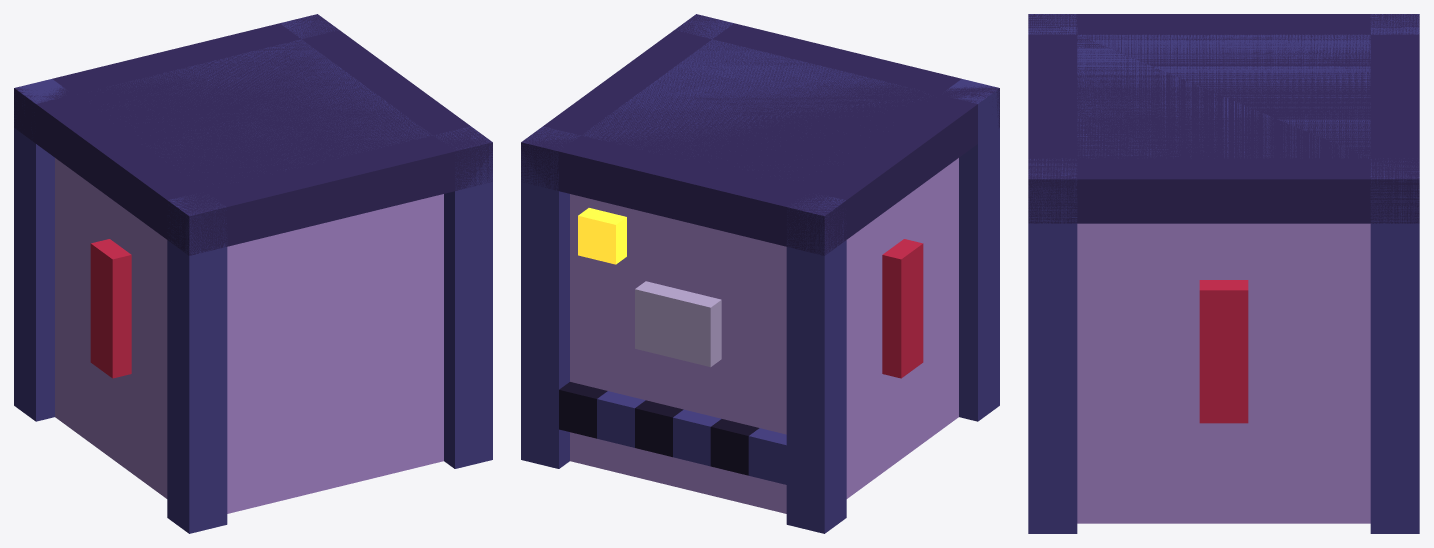
Rendered from cargo.standard.medium.glb.
3 views of the same model, side by side, from view 1: azimuth 30°, elevation 25°; view 2: azimuth 150°, elevation 25°; view 3: azimuth 270°, elevation 25° (orthographic). The views are drawn at different scales.
Parts seen in each view (by area): view 1: cargo.standard.medium; view 2: cargo.standard.medium; view 3: cargo.standard.medium.
Boxes of the visible parts, bbox=[...] form: cargo.standard.medium: bbox=[14, 14, 492, 533]; cargo.standard.medium: bbox=[521, 14, 999, 533]; cargo.standard.medium: bbox=[1028, 14, 1419, 533].
Size of the model in its own units: 1 by 1 by 1.
